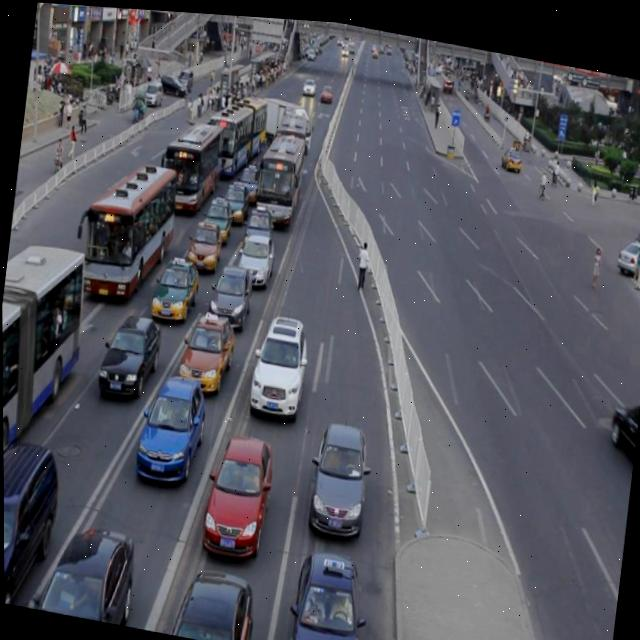bus: (251, 91, 315, 150)
car: (36, 514, 139, 625), (3, 439, 63, 610), (199, 429, 275, 557), (134, 366, 209, 486), (282, 541, 371, 640), (301, 415, 373, 536), (170, 556, 257, 640), (247, 306, 310, 413), (96, 306, 163, 399), (175, 304, 237, 394), (150, 250, 200, 321), (206, 256, 253, 328), (602, 384, 640, 460), (184, 212, 224, 271), (234, 229, 275, 284), (241, 196, 276, 245), (200, 190, 233, 241), (220, 177, 250, 219), (234, 156, 262, 199), (611, 225, 640, 265), (499, 135, 523, 165)
van: (1, 237, 90, 533), (69, 149, 179, 305), (156, 112, 227, 212), (200, 83, 271, 177), (250, 126, 308, 228), (270, 107, 311, 170)
